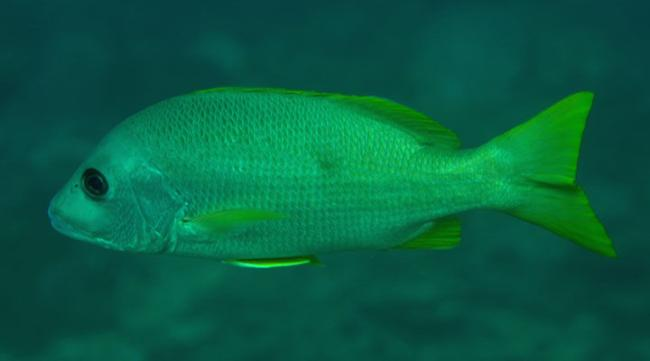fish: (47, 86, 618, 268)
